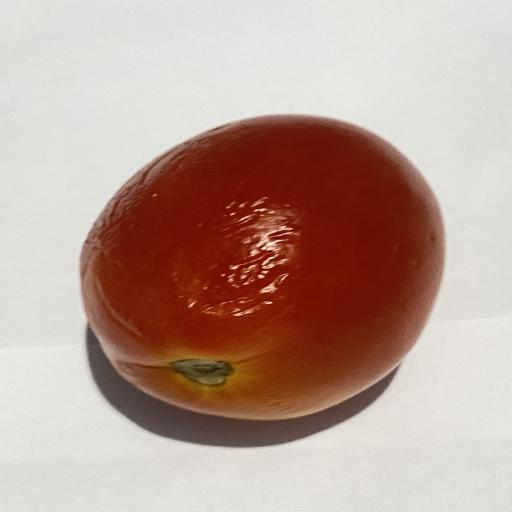spoiled: (80, 115, 444, 420)
